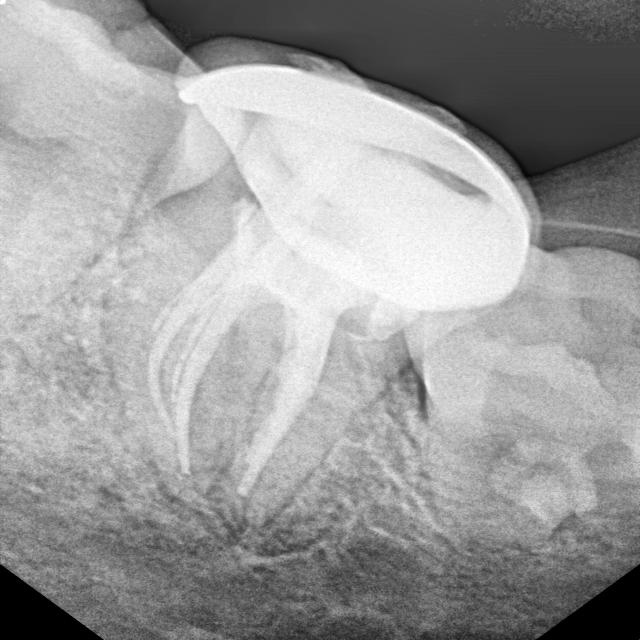Crown: (135, 1, 616, 368)
RCT: (97, 166, 452, 574)
